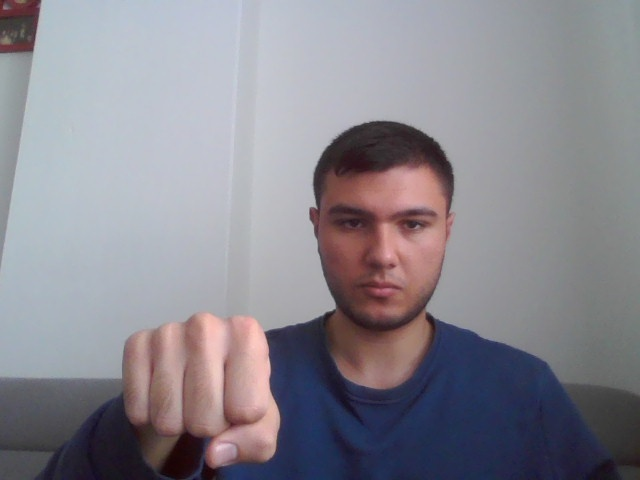yes: (119, 311, 287, 468)
